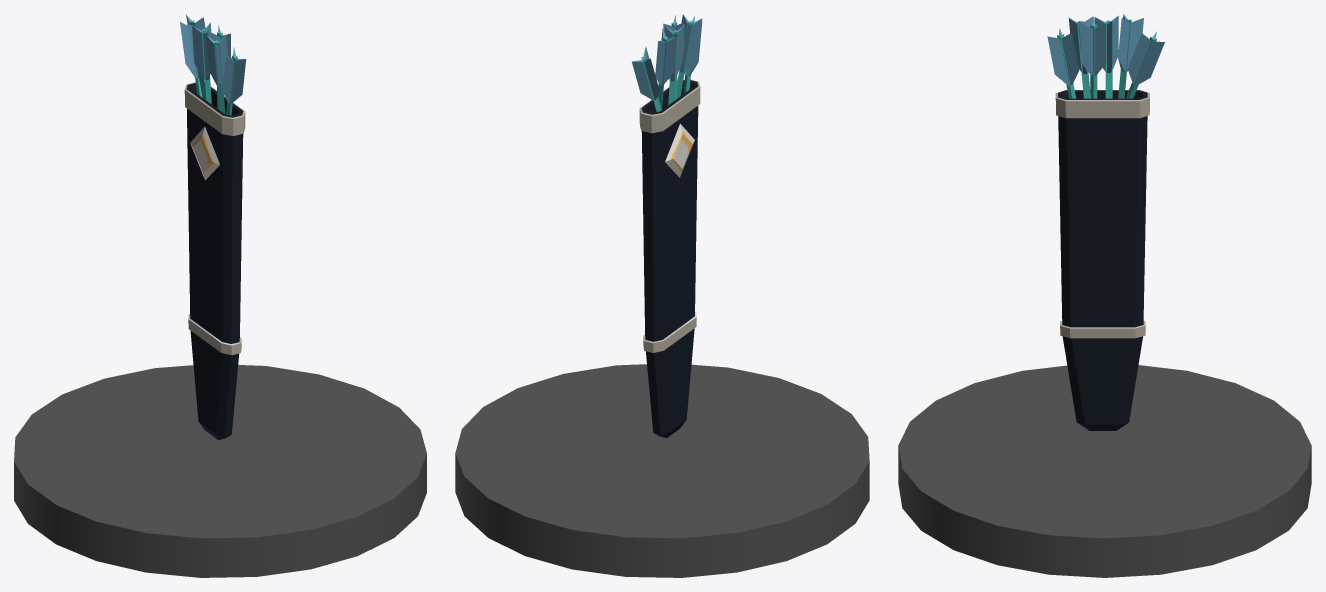
The model's file is Quiver.obj.
The picture shows the model from 3 angles, left to right: view 1: azimuth 30°, elevation 25°; view 2: azimuth 150°, elevation 25°; view 3: azimuth 270°, elevation 25°; orthographic projection.
Visible parts, largest first — view 1: Stand, quiver; view 2: Stand, quiver; view 3: Stand, quiver.
Boxes of the visible parts, box(x1,y1,x2,y2) form: Stand: box(14, 365, 426, 577); quiver: box(180, 14, 246, 439); Stand: box(455, 364, 869, 577); quiver: box(632, 14, 702, 438); Stand: box(898, 365, 1311, 577); quiver: box(1047, 14, 1164, 430).
Size of the model in its own units: 14.55 by 18.28 by 14.59.
